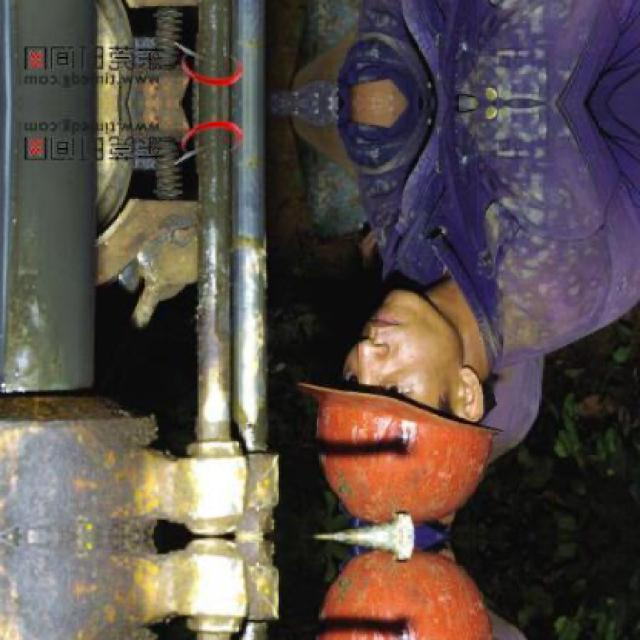con casco: (330, 210, 594, 522)
